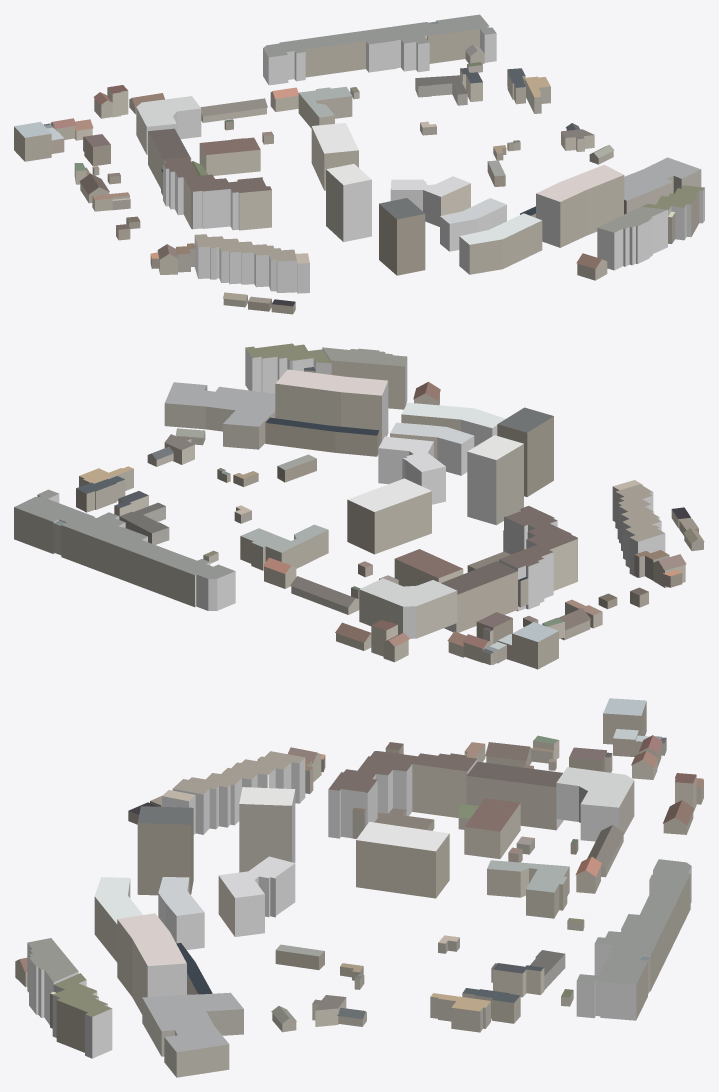
3 renders of one model, top to bottom at view 1: azimuth 30°, elevation 25°; view 2: azimuth 150°, elevation 25°; view 3: azimuth 270°, elevation 25°, orthographic. The views are drawn at different scales.
Parts seen in each view (by area): view 1: tuile; view 2: tuile; view 3: tuile.
Part boxes in pixels (x1,y1,x2,y2): tuile: [14, 14, 704, 314]; tuile: [14, 343, 704, 669]; tuile: [15, 698, 703, 1077].
Size of the model in its own units: 282 by 38.87 by 261.
